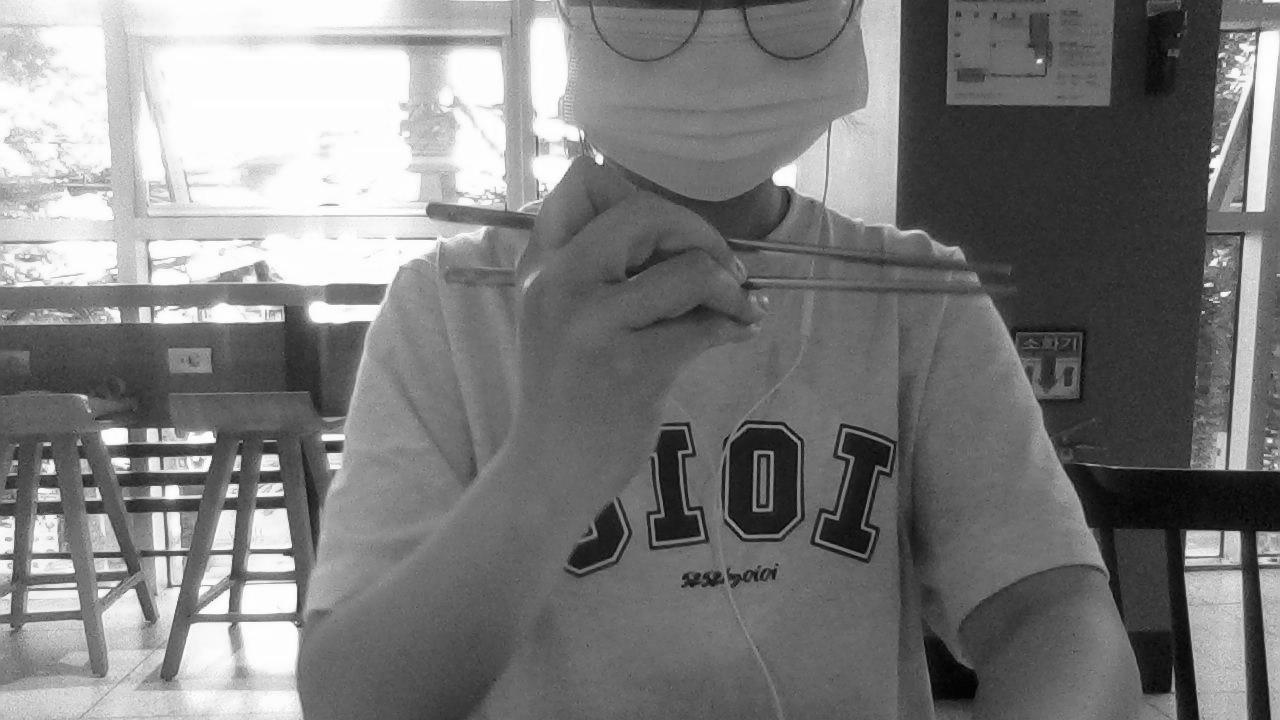chopstick: (427, 200, 1016, 274), (440, 266, 1018, 299)
hand: (511, 157, 760, 482)
